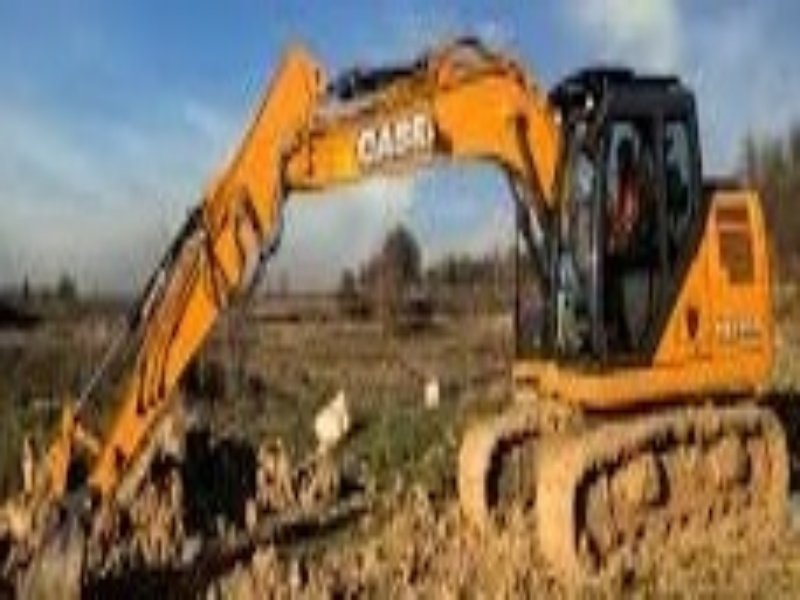wajueji: (439, 30, 800, 581)
